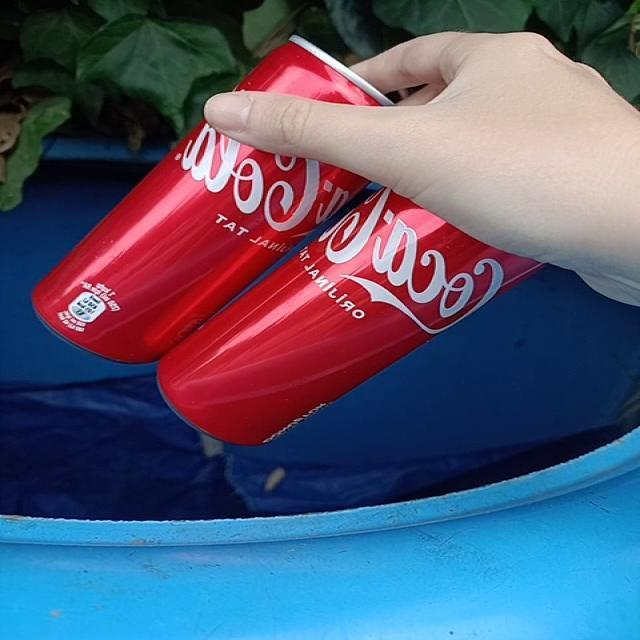Bin: (0, 140, 639, 640)
Metal: (159, 190, 541, 446), (32, 123, 367, 362), (237, 35, 389, 109)
